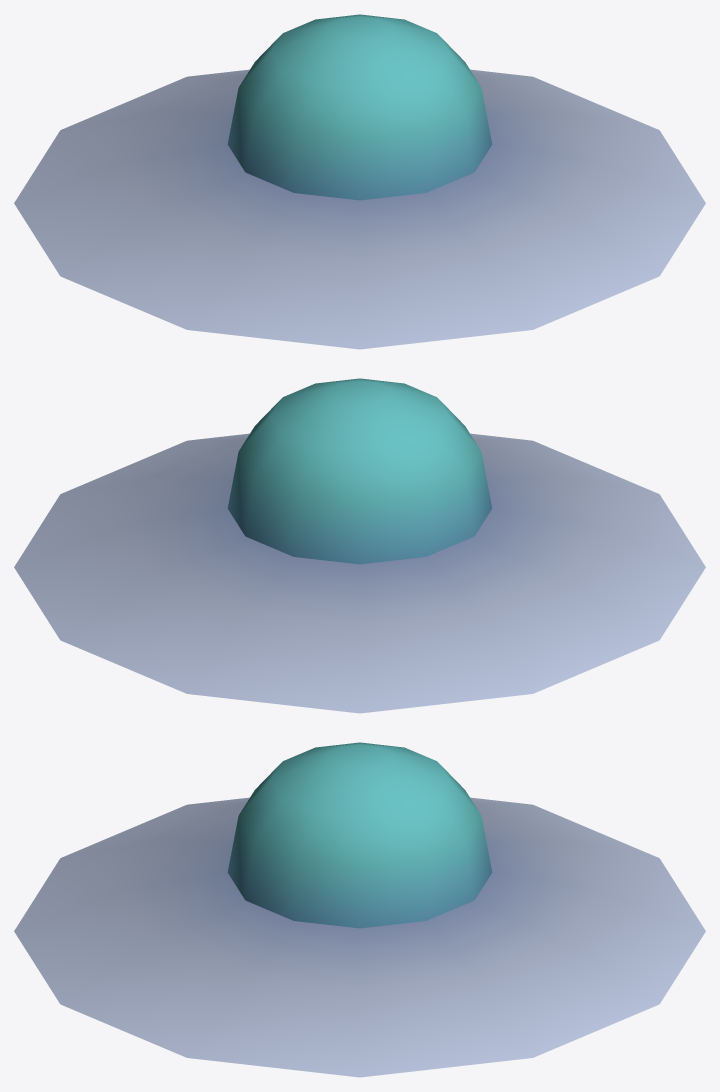
File: ufo.glb
3 renders of one model, top to bottom at view 1: azimuth 30°, elevation 25°; view 2: azimuth 150°, elevation 25°; view 3: azimuth 270°, elevation 25°, orthographic.
Visible parts, largest first — view 1: Ufo; view 2: Ufo; view 3: Ufo.
Boxes of the visible parts, bbox=[...] form: Ufo: bbox=[14, 14, 705, 349]; Ufo: bbox=[14, 378, 705, 713]; Ufo: bbox=[14, 742, 705, 1077].
Size of the model in its own units: 1.14 by 0.3953 by 1.14.
